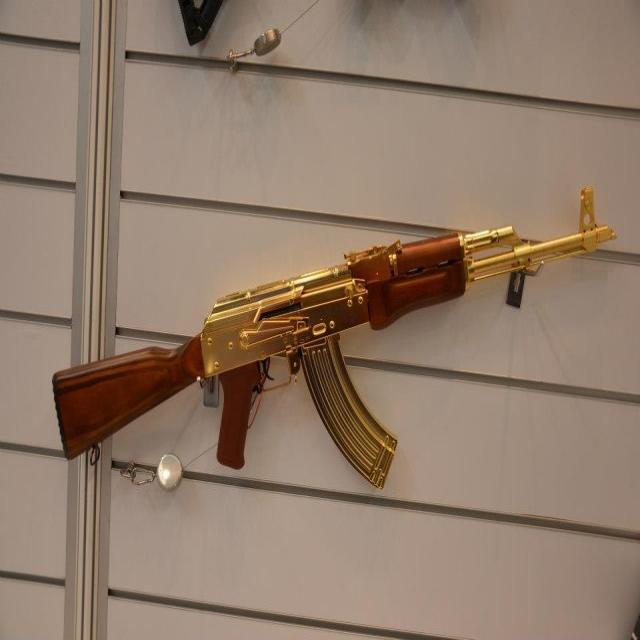firearm: (52, 187, 618, 490)
